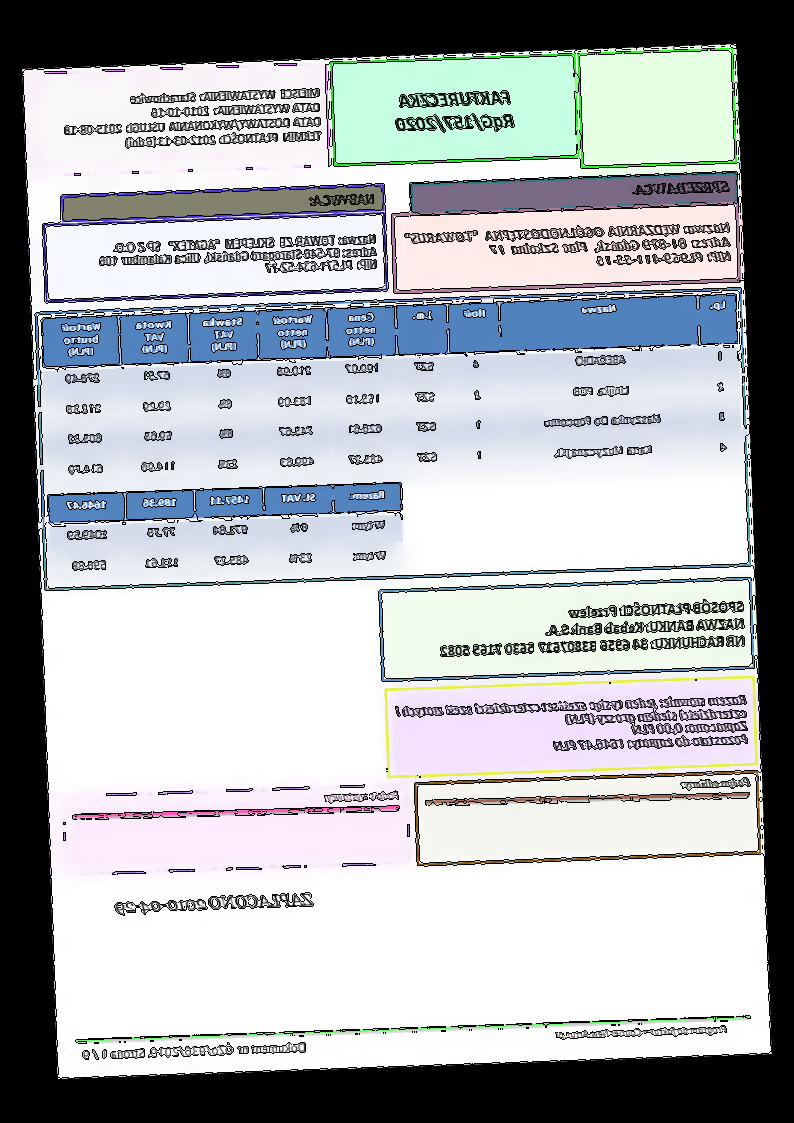Table: (41, 292, 744, 490), (46, 482, 406, 585)
TextBox: (393, 692, 751, 759), (436, 597, 749, 660), (403, 220, 734, 274), (61, 86, 324, 151), (98, 232, 380, 280), (393, 88, 517, 138), (113, 890, 316, 919), (82, 1041, 308, 1063), (554, 1022, 731, 1043), (630, 179, 733, 197), (308, 191, 377, 210), (323, 789, 401, 805), (678, 775, 753, 791)
